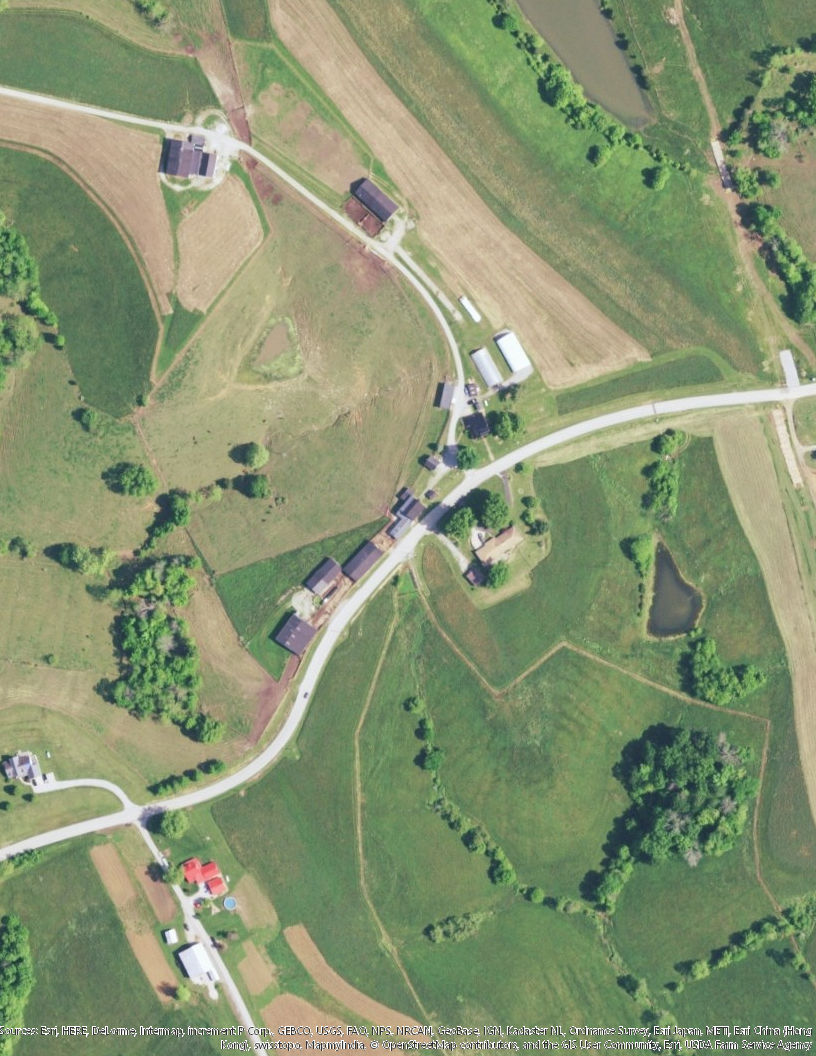cafo: (349, 174, 406, 225), (386, 483, 429, 544), (270, 613, 324, 660), (343, 537, 386, 586), (493, 327, 533, 375), (305, 553, 344, 598), (469, 343, 504, 387)
